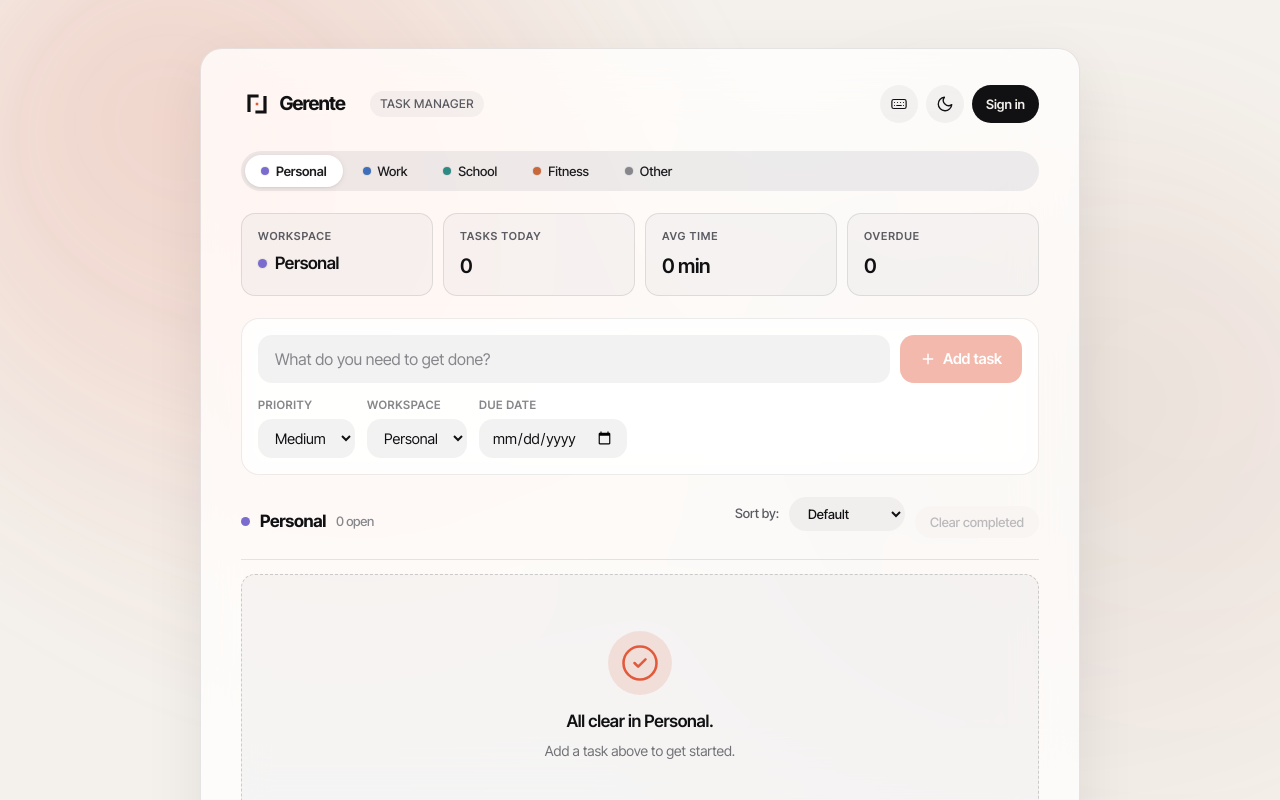
Scenario: workspaces › each workspace only shows its own tasks
Type "Personal errand" into the field named "Task description". click: (574, 358)
box: 258,334 -> 890,382
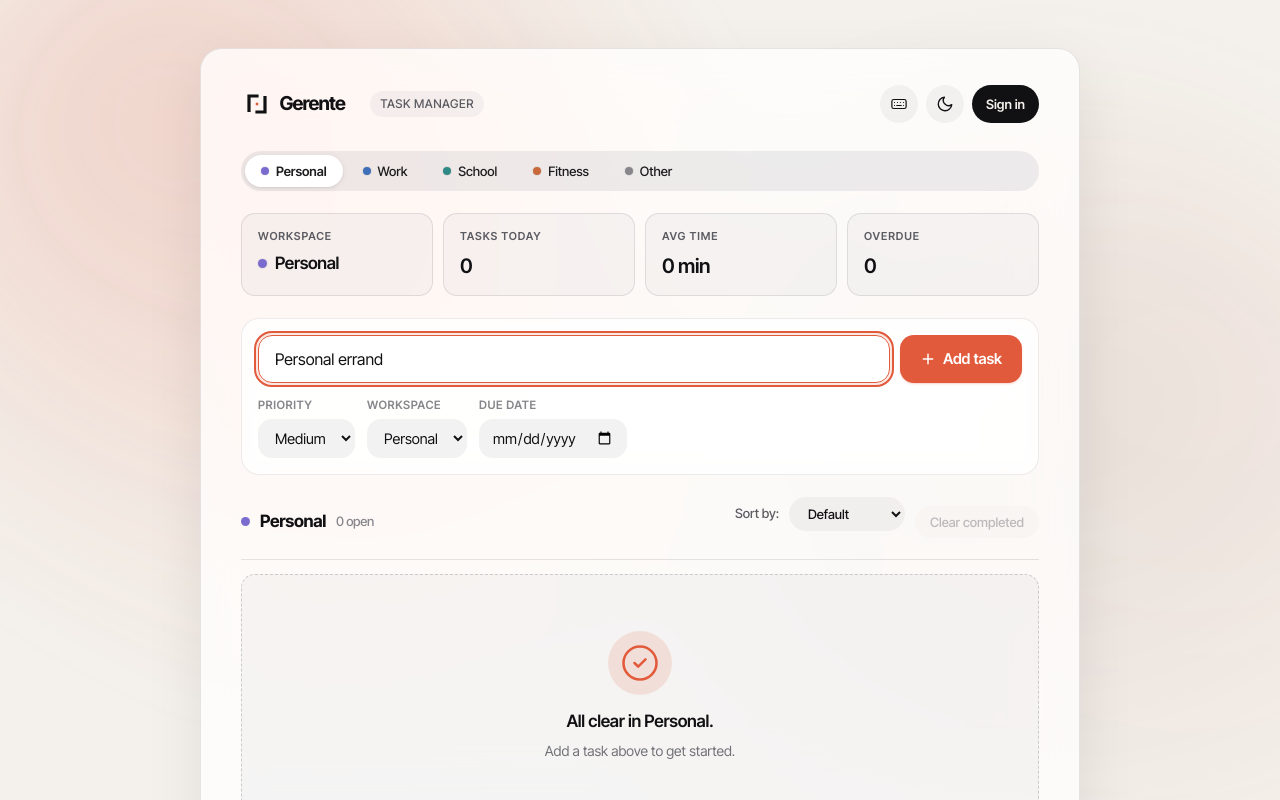
Click the button "Add task". click: (961, 358)
box: 900,334 -> 1022,382
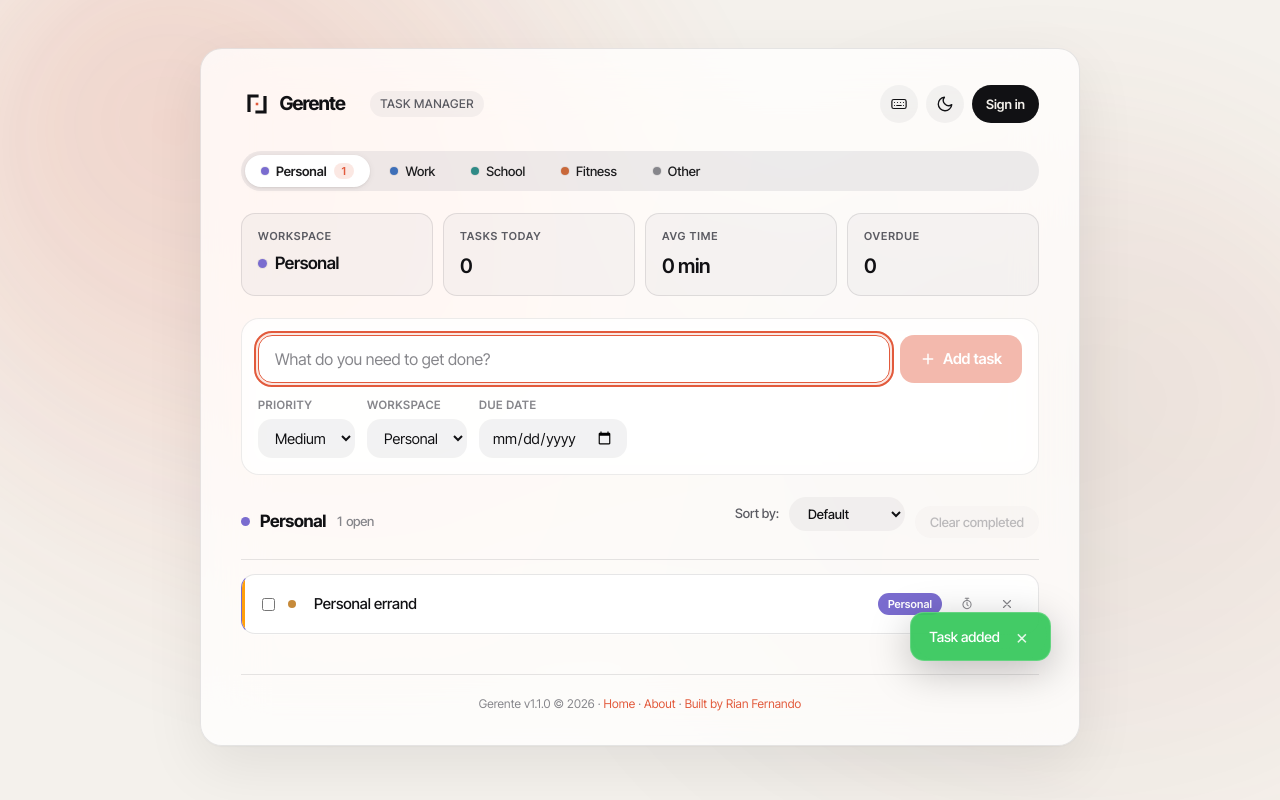
Click the button "Work". click: (413, 171)
box: 374,155 -> 451,187
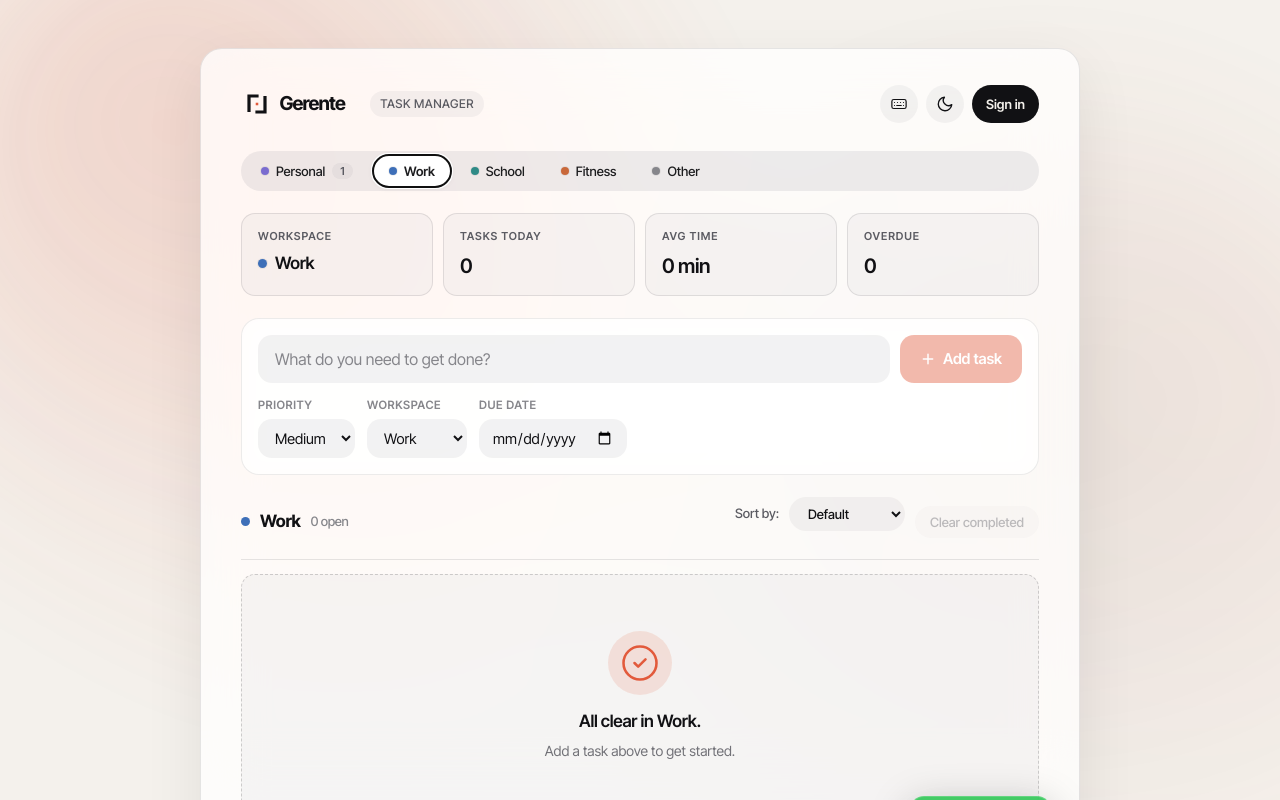
Type "Work deliverable" into the field named "Task description". click: (574, 358)
box: 258,334 -> 890,382
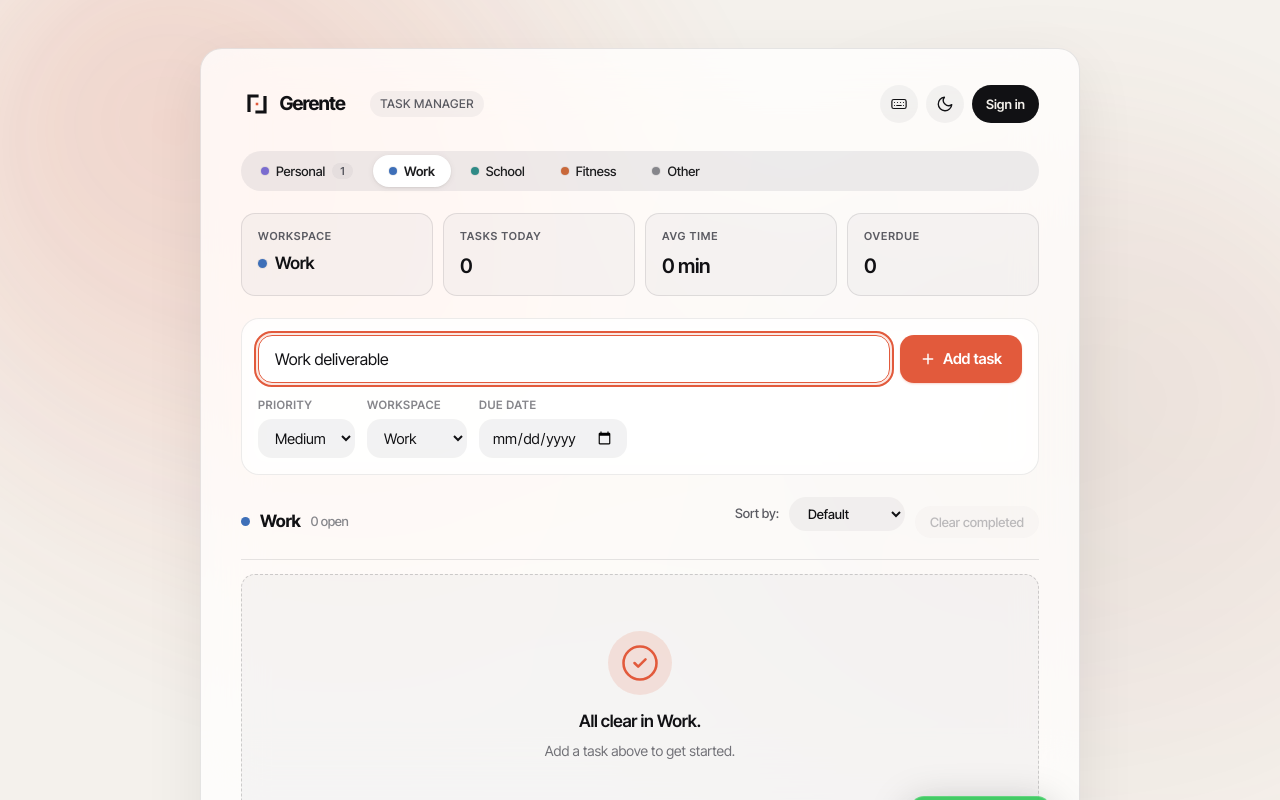
Click the button "Add task". click: (961, 358)
box: 900,334 -> 1022,382
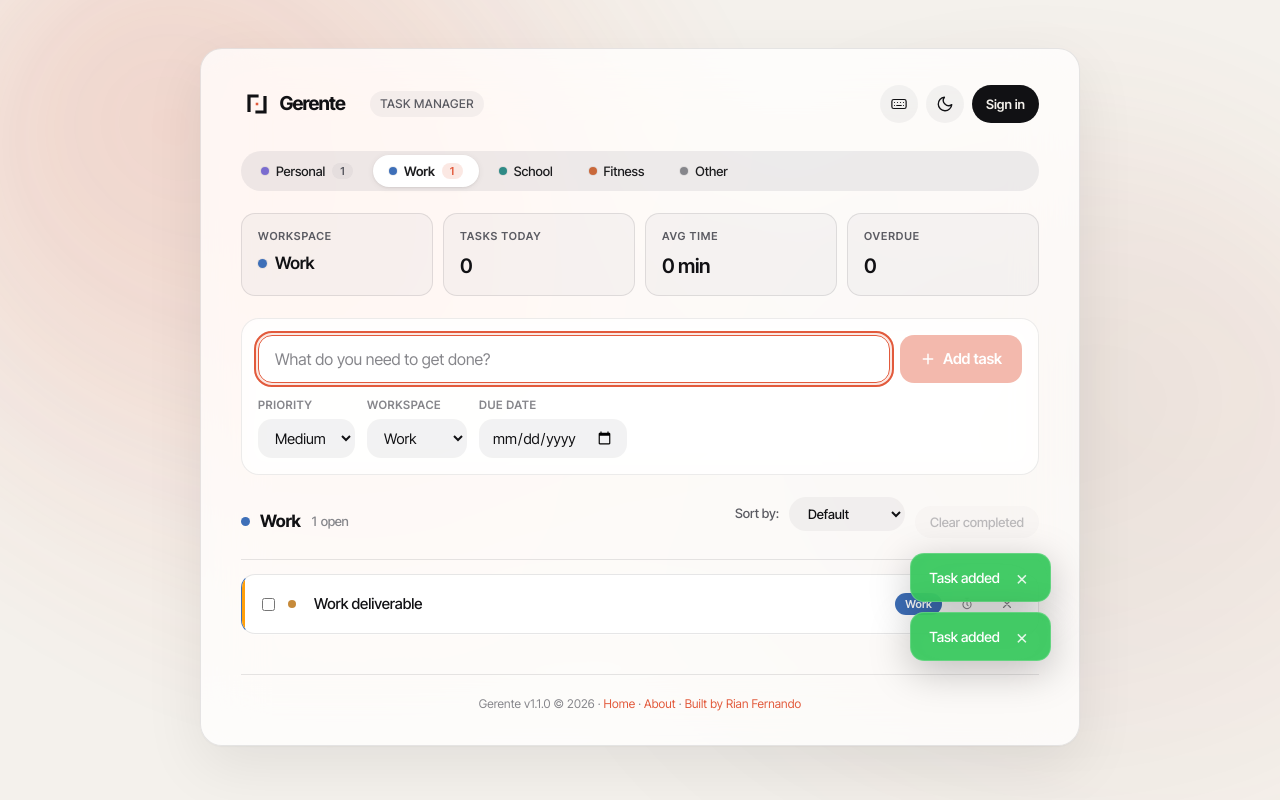
Check: the button "Personal errand" is not shown
Check: the button "Work deliverable" is shown, box 314,594 -> 422,613
Click the button "Personal 1". click: (307, 171)
box: 245,155 -> 369,187
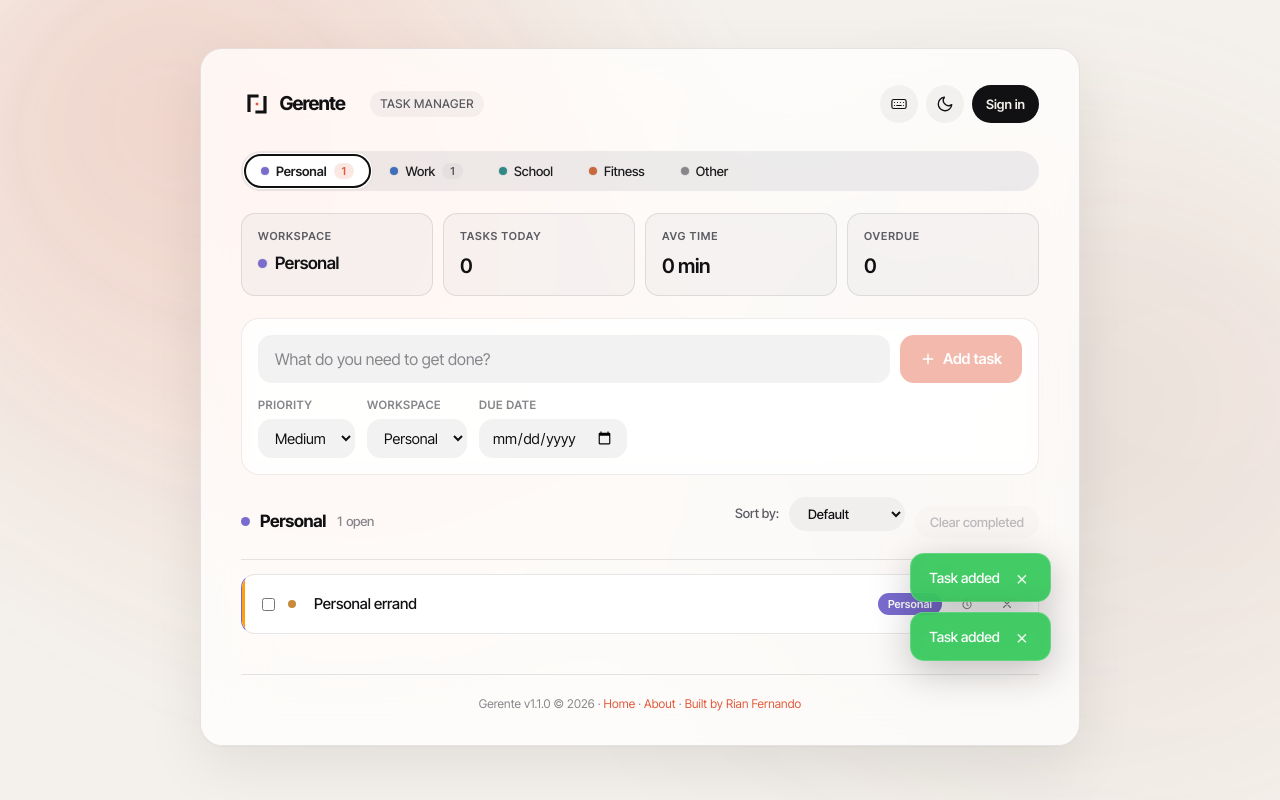
Check: the button "Personal errand" is shown, box 314,594 -> 417,613
Check: the button "Work deliverable" is gone
